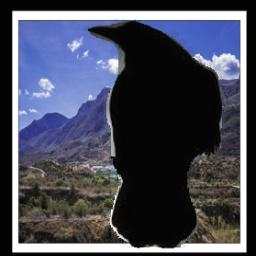Crow: (84, 19, 223, 248)
